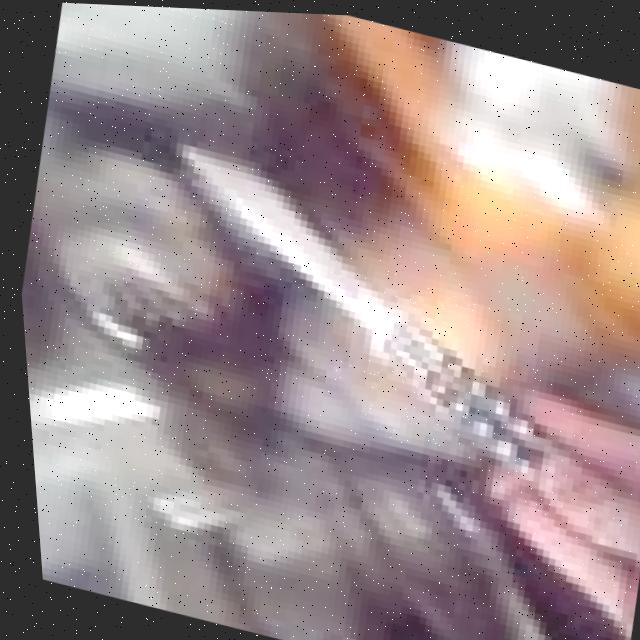knife: (126, 134, 583, 468)
